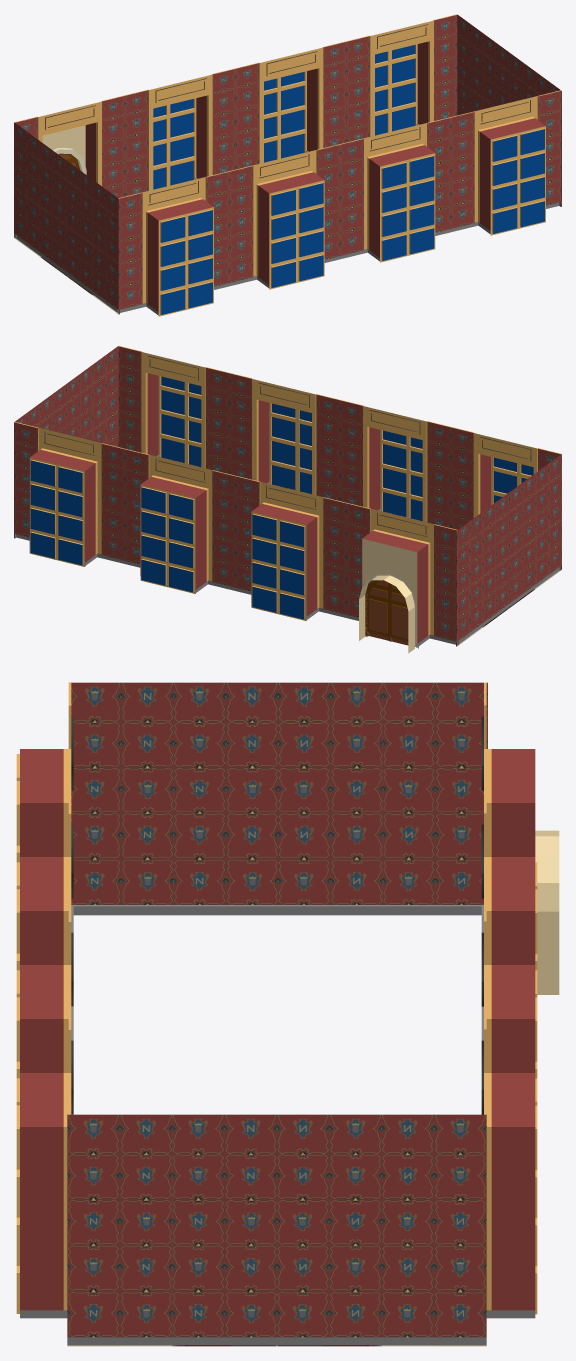
Rendered from Salle_2_Mur_Ref012.fbx.
3 views of the same model, one above another, from view 1: azimuth 30°, elevation 25°; view 2: azimuth 150°, elevation 25°; view 3: azimuth 270°, elevation 25° (orthographic). The views are drawn at different scales.
Visible parts, largest first — view 1: Salle_2_Mur_Ref012; view 2: Salle_2_Mur_Ref012; view 3: Salle_2_Mur_Ref012.
Part boxes in pixels (x1,y1,x2,y2): Salle_2_Mur_Ref012: [14, 14, 561, 316]; Salle_2_Mur_Ref012: [14, 345, 561, 653]; Salle_2_Mur_Ref012: [16, 682, 559, 1346].
Bounding box in the file's own units: 4001 × 1011 × 2124.
1 material, 1 textured.
